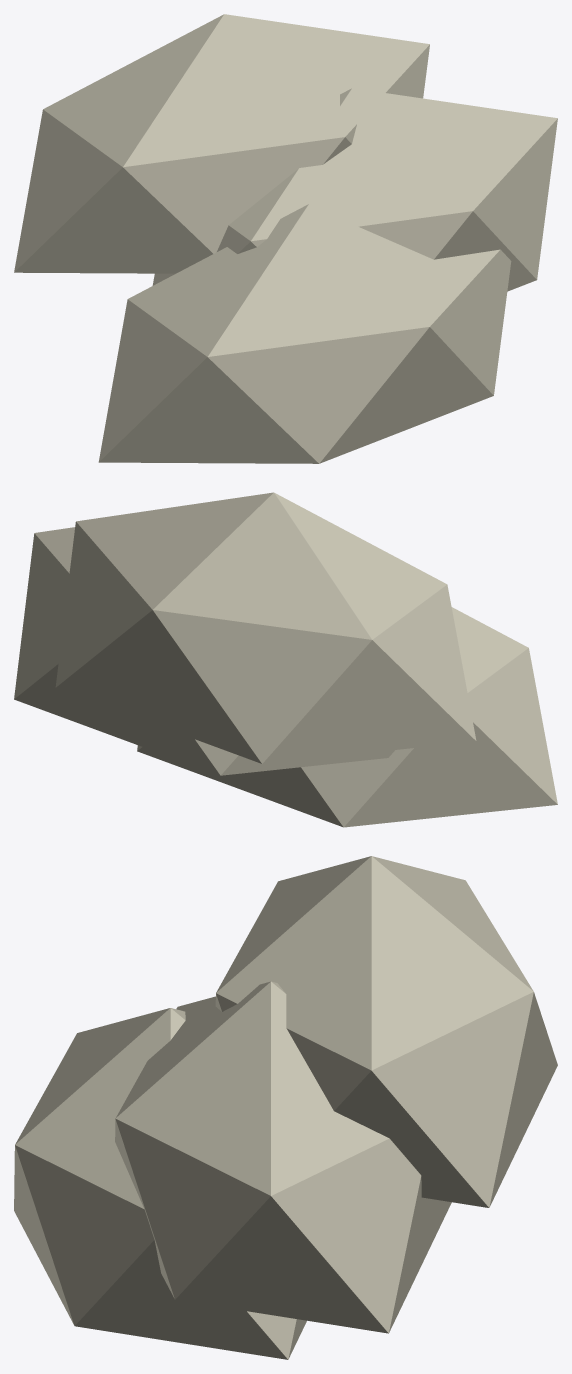
File: item_074_tin_ore_m.glb
The picture shows the model from 3 angles, top to bottom: view 1: azimuth 30°, elevation 25°; view 2: azimuth 150°, elevation 25°; view 3: azimuth 270°, elevation 25°; orthographic projection. The views are drawn at different scales.
Visible parts, largest first — view 1: item_074_tin_ore_m; view 2: item_074_tin_ore_m; view 3: item_074_tin_ore_m.
Part boxes in pixels (left/top/right/bottom): item_074_tin_ore_m: left=14, top=14, right=557, bottom=463; item_074_tin_ore_m: left=14, top=492, right=557, bottom=827; item_074_tin_ore_m: left=14, top=856, right=557, bottom=1359.
Bounding box in the file's own units: 0.4107 × 0.3019 × 0.3248.
